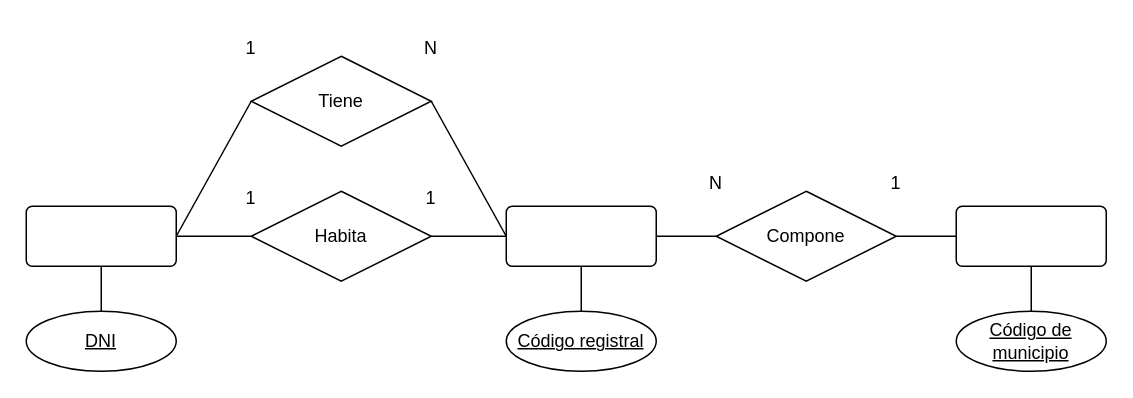
This 1133x398 diagram has some shape labels left out. The box of each missing label's shape, as (x1, y1, x2, y2) in pixels:
Municipio: (955, 205, 1106, 266)
Persona: (25, 205, 176, 266)
Vivienda: (505, 205, 656, 266)
